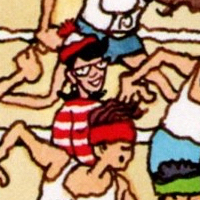wenda: (64, 26, 108, 103)
